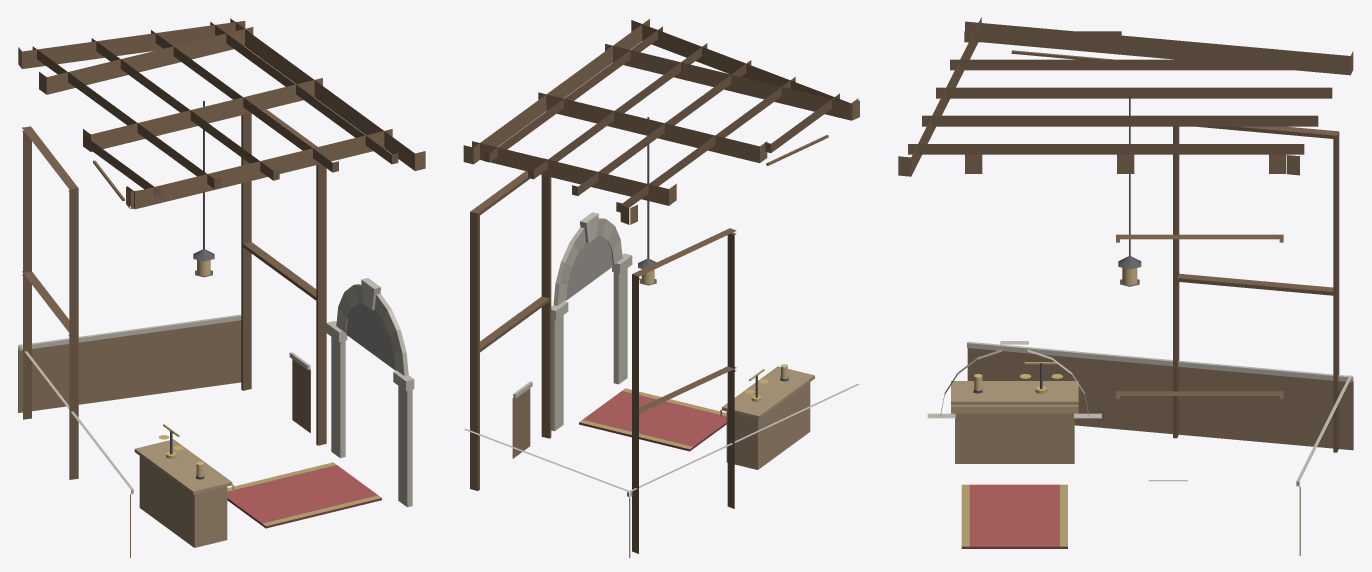
The model's file is interior_b119.glb.
3 views of the same model, side by side, from view 1: azimuth 30°, elevation 25°; view 2: azimuth 150°, elevation 25°; view 3: azimuth 270°, elevation 25° (orthographic). The views are drawn at different scales.
Visible parts, largest first — view 1: Interior_B119_mesh; view 2: Interior_B119_mesh; view 3: Interior_B119_mesh.
Boxes of the visible parts, x1,y1,x2,y2 form: Interior_B119_mesh: (18,18,425,557); Interior_B119_mesh: (463,19,859,557); Interior_B119_mesh: (898,17,1353,555).
Size of the model in its own units: 5.11 by 6.65 by 6.98.
